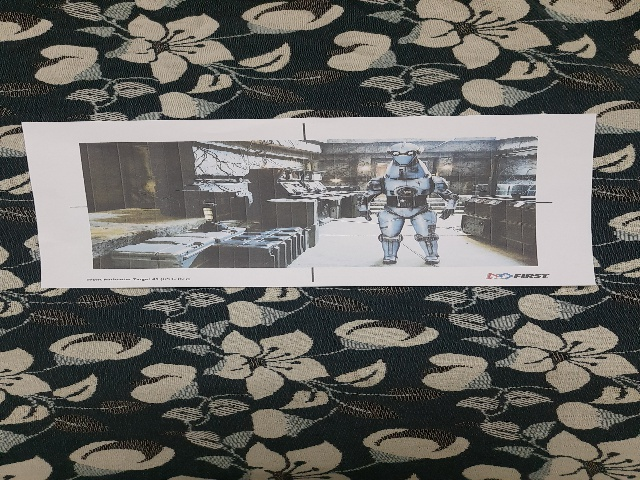fpt1: (31, 130, 578, 283)
